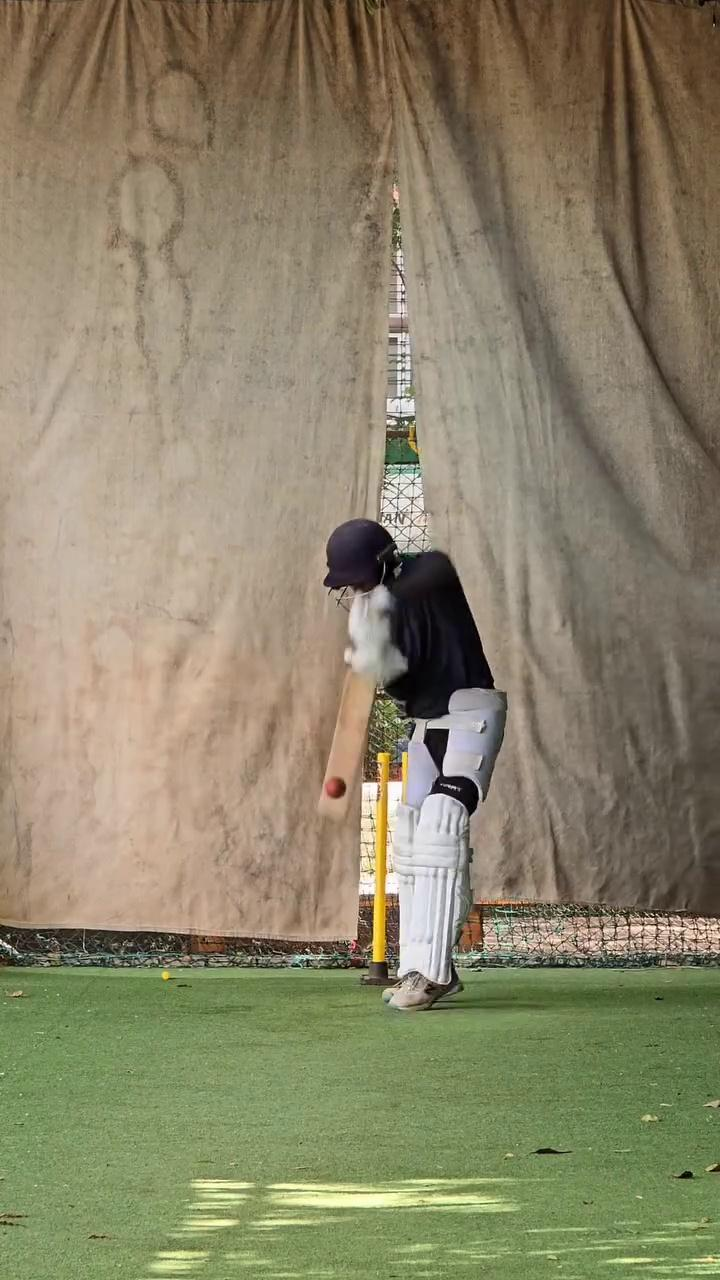bat: (313, 667, 379, 826)
